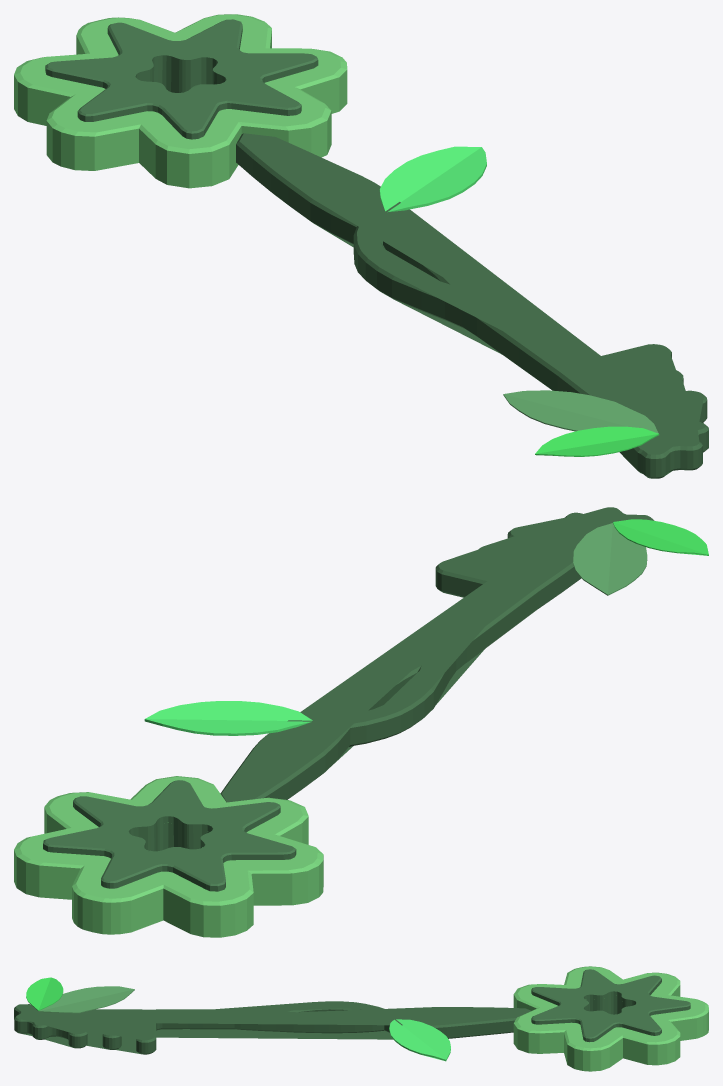
The model's file is PlantKey1.fbx.
The picture shows the model from 3 angles, top to bottom: view 1: azimuth 30°, elevation 25°; view 2: azimuth 150°, elevation 25°; view 3: azimuth 270°, elevation 25°; orthographic projection. The views are drawn at different scales.
Parts seen in each view (by area): view 1: BottomLeaf; view 2: BottomLeaf; view 3: BottomLeaf.
Part boxes in pixels (x1,y1,x2,y2): BottomLeaf: (14, 14, 708, 478); BottomLeaf: (14, 507, 708, 937); BottomLeaf: (14, 966, 708, 1071).
Size of the model in its own units: 94.84 by 14.16 by 309.
